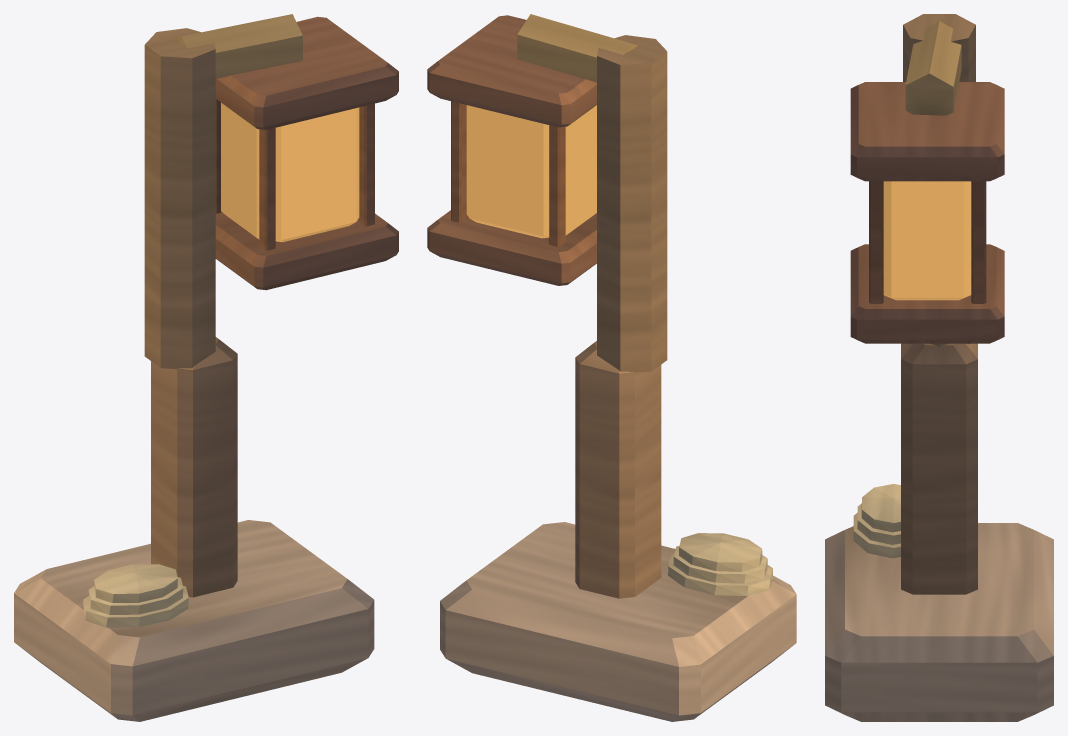
The model's file is furniture_harbor_lantern.glb.
3 renders of one model, left to right at view 1: azimuth 30°, elevation 25°; view 2: azimuth 150°, elevation 25°; view 3: azimuth 270°, elevation 25°, orthographic. The views are drawn at different scales.
Visible parts, largest first — view 1: Hafenlaterne · Möbel aus Eichenhafen; view 2: Hafenlaterne · Möbel aus Eichenhafen; view 3: Hafenlaterne · Möbel aus Eichenhafen.
Part boxes in pixels (x1,y1,x2,y2): Hafenlaterne · Möbel aus Eichenhafen: [14, 14, 398, 721]; Hafenlaterne · Möbel aus Eichenhafen: [427, 14, 796, 721]; Hafenlaterne · Möbel aus Eichenhafen: [825, 14, 1053, 721].
Bounding box in the file's own units: 0.696 × 1.42 × 0.46.
2 materials, 1 textured.
